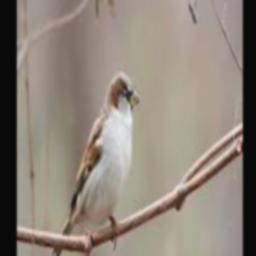Sparrow: (51, 71, 139, 256)
